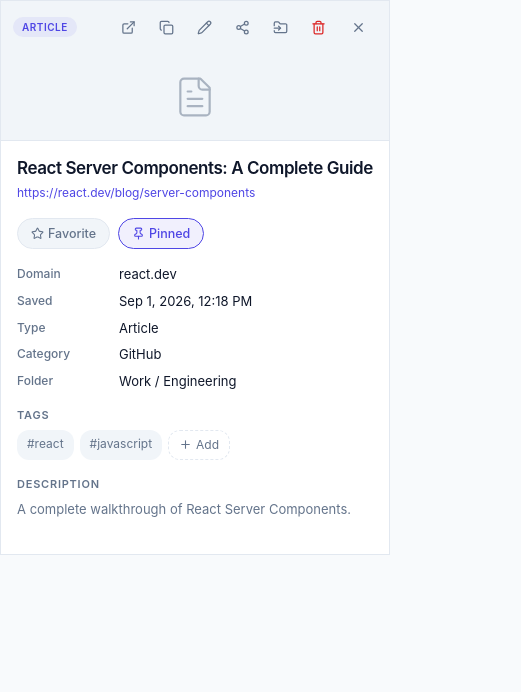
Test: LinkDetailPanel — actions › opens the shared edit form, saves a patch, and cancels
This screenshot has width=521, height=692.
Click the button named "Edit link".
click(205, 27)  # box [187,9,223,45]
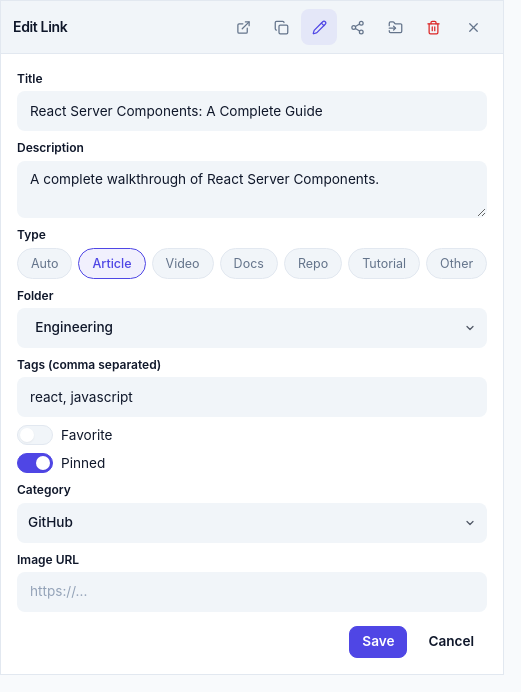
expect the element with class "edit-form" is shown: met
Replace the text in the field labelled "Title" with "Edited title" at (252, 111), box [17,91,487,131]
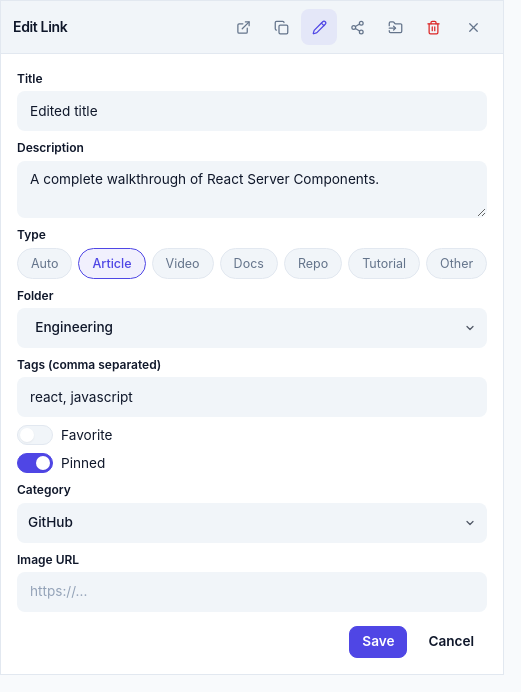
Click the button "Save".
click(378, 642)  # box [349,626,408,658]
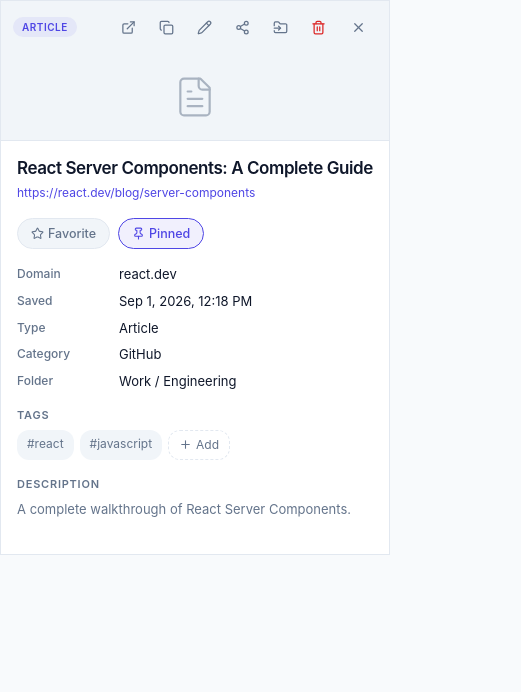
expect the element with class "edit-form" is gone: met
Click the button named "Edit link".
click(205, 27)  # box [187,9,223,45]
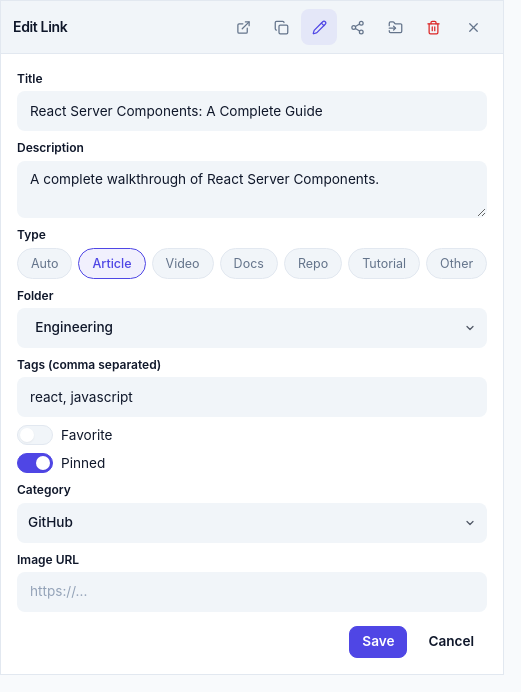
Click the button "Cancel".
click(451, 642)  # box [416,626,487,658]
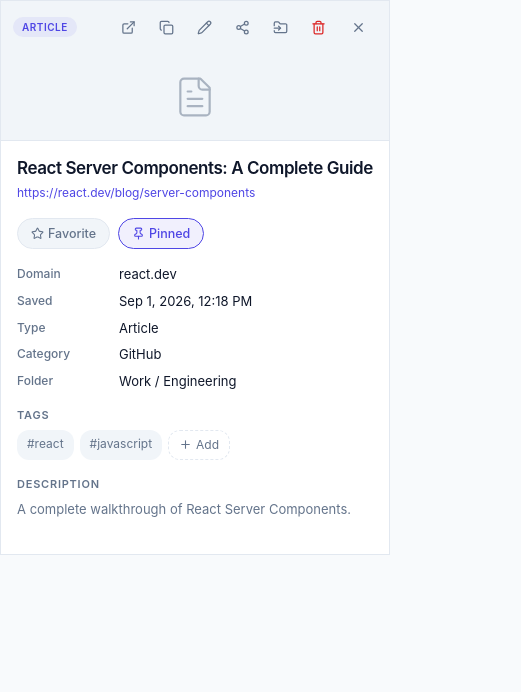
expect the element with class "edit-form" is gone: met
